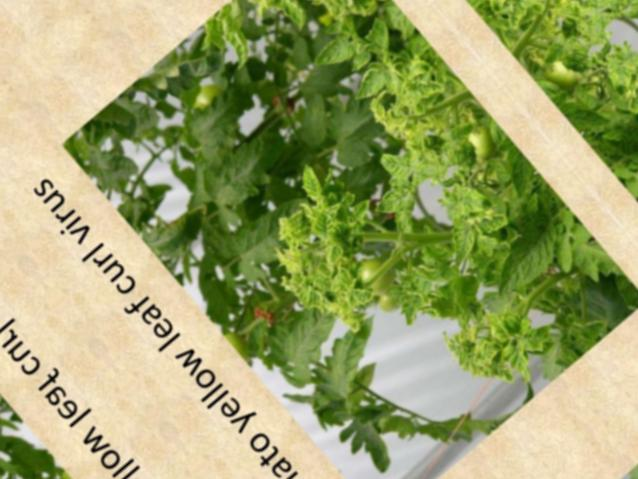Tomato leaf yellow virus: (300, 22, 360, 81), (433, 217, 489, 273), (345, 54, 401, 109), (209, 19, 263, 75), (394, 64, 449, 118), (442, 172, 495, 225), (496, 331, 548, 385), (286, 157, 336, 209), (370, 177, 420, 223), (479, 298, 525, 343), (373, 139, 416, 184), (411, 122, 454, 166), (272, 0, 320, 37), (345, 277, 385, 315), (327, 261, 364, 297), (304, 205, 339, 240), (276, 210, 309, 243), (446, 144, 480, 176), (316, 235, 348, 267)
